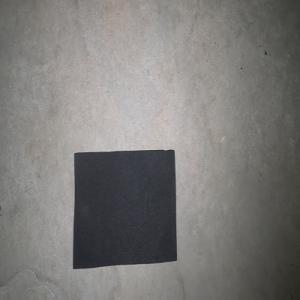PaintChip: (72, 149, 177, 269)
